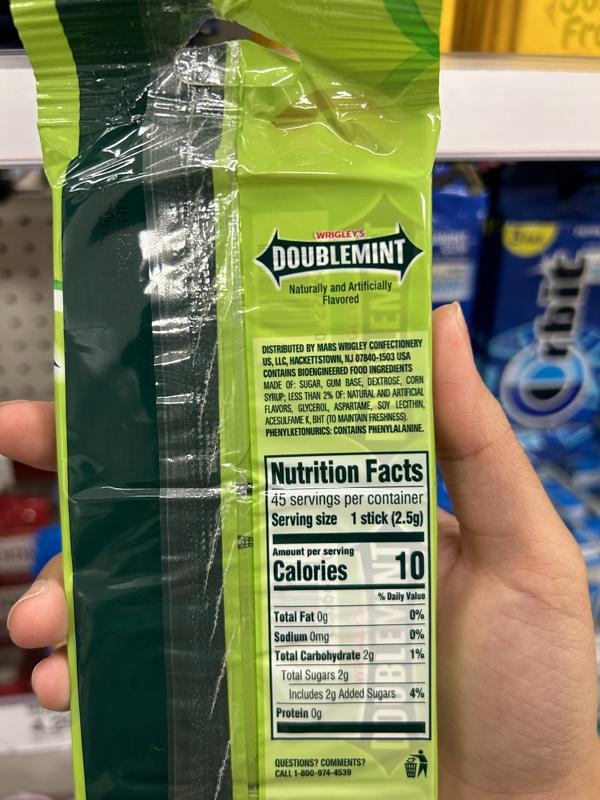ingredients: (262, 374, 429, 425)
